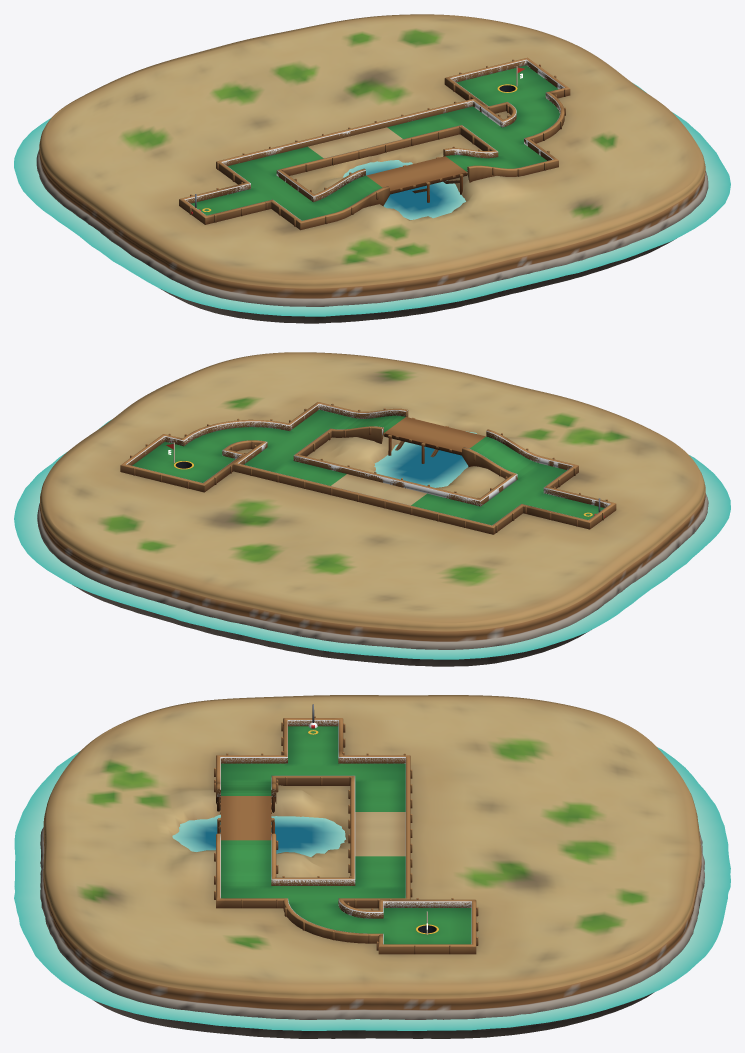
Rendered from course-03.glb.
3 renders of one model, top to bottom at view 1: azimuth 30°, elevation 25°; view 2: azimuth 150°, elevation 25°; view 3: azimuth 270°, elevation 25°, orthographic. The views are drawn at different scales.
Visible parts, largest first — view 1: scenery-matte, floor-felt, water-shore, rail-trim, scenery-water, rail-wood, floor-deck, floor-sand; view 2: scenery-matte, floor-felt, water-shore, rail-trim, rail-wood, scenery-water, floor-deck, floor-sand; view 3: scenery-matte, water-shore, floor-felt, rail-trim, scenery-water, rail-wood, floor-sand, floor-deck.
Boxes of the visible parts, x1,y1,x2,y2 form: scenery-matte: (36,14,708,323); floor-felt: (191,65,559,220); water-shore: (14,83,730,316); rail-trim: (179,57,570,230); scenery-water: (343,160,465,219); rail-wood: (184,59,564,220); floor-deck: (366,156,466,190); floor-sand: (308,127,402,158); scenery-matte: (37,352,708,666); floor-felt: (132,409,604,525); water-shore: (14,419,730,659); rail-trim: (120,402,616,534); rail-wood: (126,404,610,525); scenery-water: (374,431,476,487); floor-deck: (384,417,485,451); floor-sand: (331,474,426,505); scenery-matte: (40,695,704,1038); water-shore: (14,747,730,1030); floor-felt: (221,726,471,944); rail-trim: (214,716,478,954); scenery-water: (172,815,345,856); rail-wood: (217,720,471,944); floor-sand: (355,812,405,856); floor-deck: (221,796,271,840).
Size of the model in its own units: 26.05 by 3.26 by 24.5.
